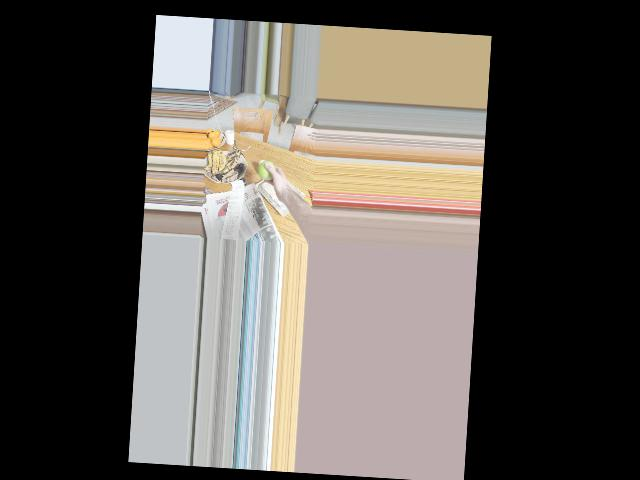apple: (258, 160, 278, 183)
